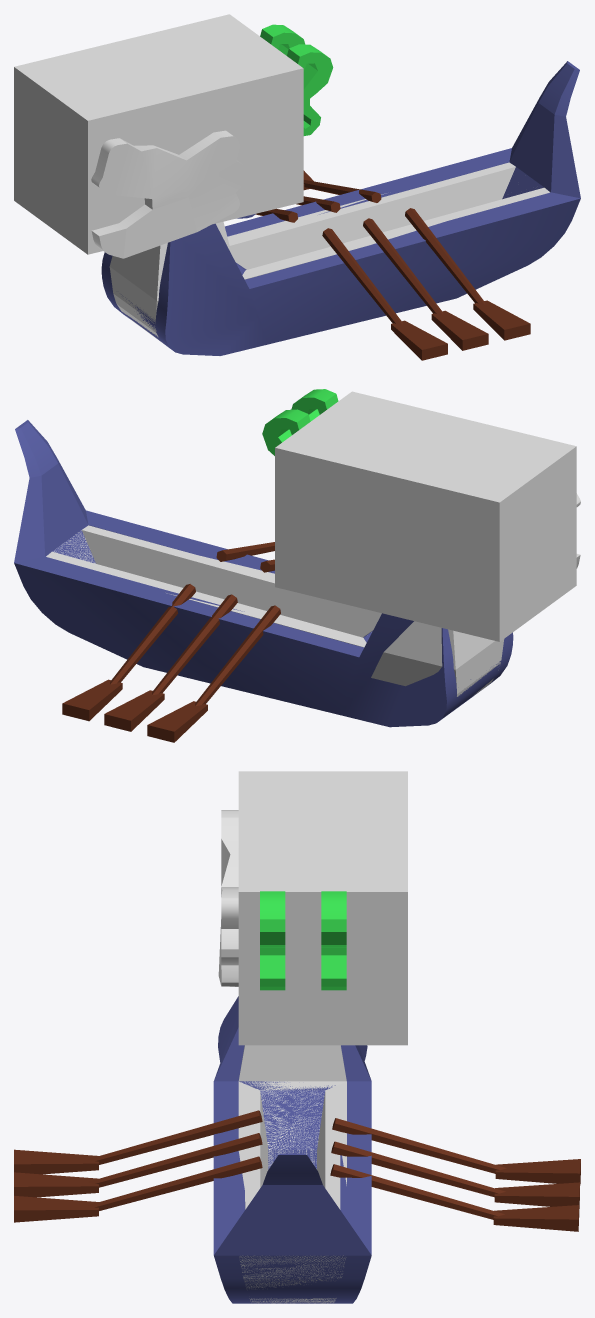
Rendered from DrakkarCOLOREDblue.fbx.
The picture shows the model from 3 angles, top to bottom: view 1: azimuth 30°, elevation 25°; view 2: azimuth 150°, elevation 25°; view 3: azimuth 270°, elevation 25°; orthographic projection. The views are drawn at different scales.
Visible parts, largest first — view 1: Cube, Cube.002, Cube.001, Wioslo 1, Wioslo 2; view 2: Cube.002, Cube, Cube.001, Wioslo 2, Wioslo 1; view 3: Cube.002, Cube, Cube.001, Wioslo 1, Wioslo 2.
Part boxes in pixels (x1,y1,x2,y2): Cube: (91,24,580,355); Cube.002: (14,14,303,254); Cube.001: (109,162,549,344); Wioslo 1: (322,208,530,360); Wioslo 2: (255,170,381,222); Cube.002: (275,391,576,641); Cube: (14,389,580,727); Cube.001: (46,525,504,696); Wioslo 2: (62,584,280,742); Wioslo 1: (216,542,274,572); Cube.002: (238,771,407,1045); Cube: (213,810,371,1303); Cube.001: (238,1045,346,1303); Wioslo 1: (14,1110,262,1222); Wioslo 2: (330,1118,580,1231).
Size of the model in its own units: 91.43 by 47.32 by 76.89.
